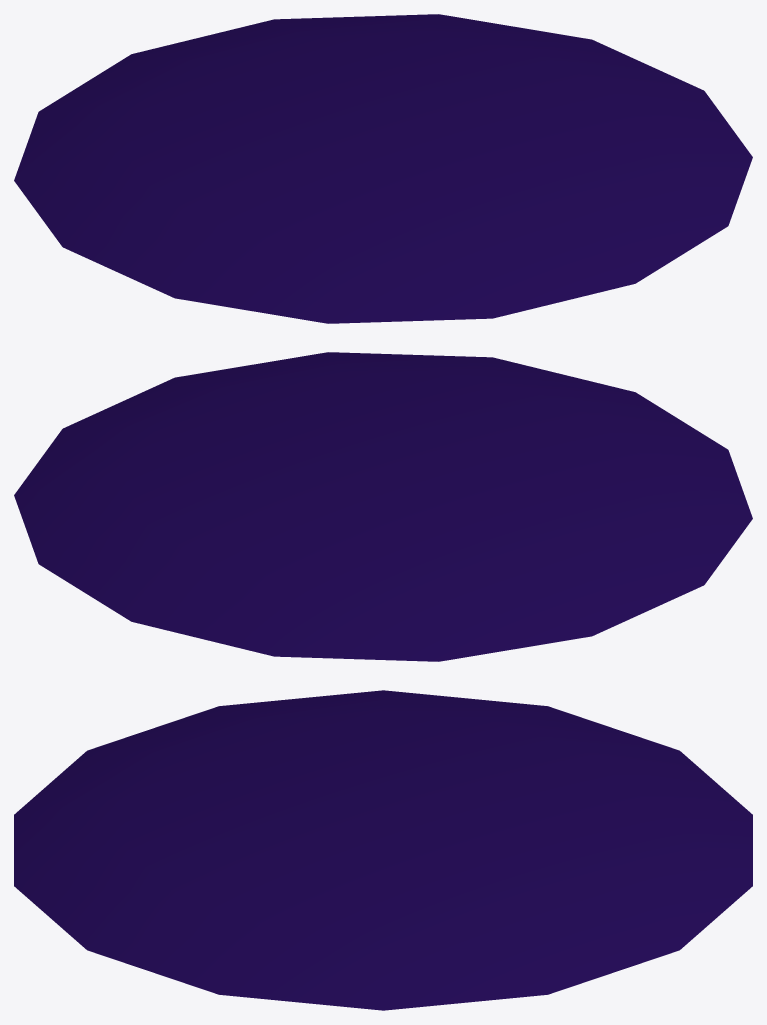
File: ADML_Arena_Floor.fbx
The picture shows the model from 3 angles, top to bottom: view 1: azimuth 30°, elevation 25°; view 2: azimuth 150°, elevation 25°; view 3: azimuth 270°, elevation 25°; orthographic projection. The views are drawn at different scales.
Parts seen in each view (by area): view 1: ADML_Arena_Floor; view 2: ADML_Arena_Floor; view 3: ADML_Arena_Floor.
Boxes of the visible parts, x1=… form: ADML_Arena_Floor: x1=14, y1=14, x2=752, y2=323; ADML_Arena_Floor: x1=14, y1=352, x2=752, y2=661; ADML_Arena_Floor: x1=14, y1=690, x2=752, y2=1010.
Bounding box in the file's own units: 465 × 453 × 18.03.
